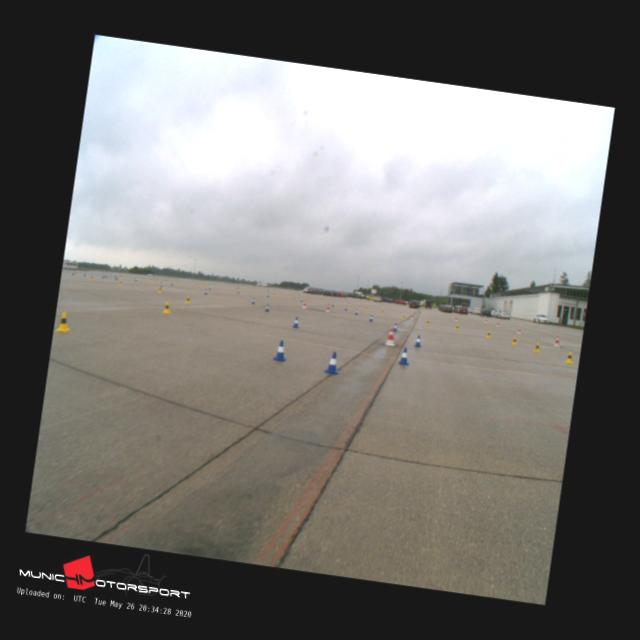blue_cone: (324, 351, 340, 373), (273, 340, 288, 362), (398, 348, 410, 364), (413, 335, 422, 348), (292, 316, 300, 328), (392, 323, 398, 332), (264, 304, 270, 312), (369, 314, 374, 322), (251, 298, 256, 304)
yellow_cone: (56, 312, 70, 333), (162, 300, 172, 314), (566, 351, 574, 364), (534, 343, 540, 353), (512, 337, 518, 346), (185, 296, 191, 304), (486, 331, 491, 338), (455, 324, 460, 330), (426, 319, 430, 325)
